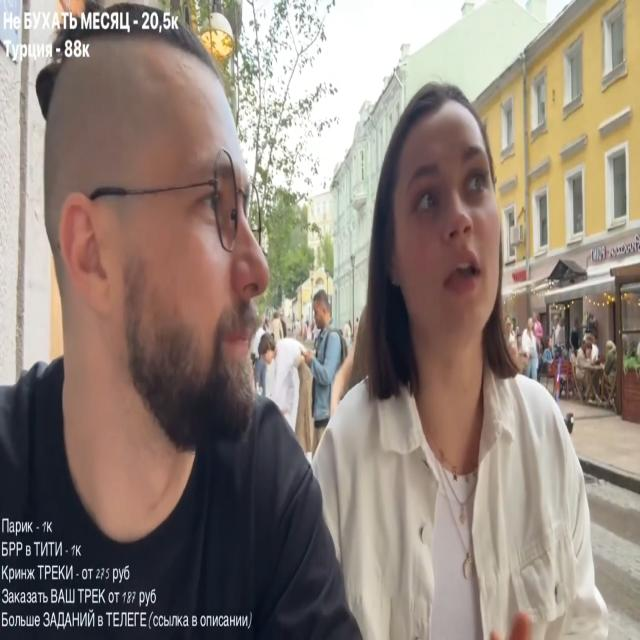Person: (0, 16, 371, 639), (298, 77, 608, 638), (256, 332, 316, 452), (303, 293, 346, 430), (573, 332, 601, 408)
